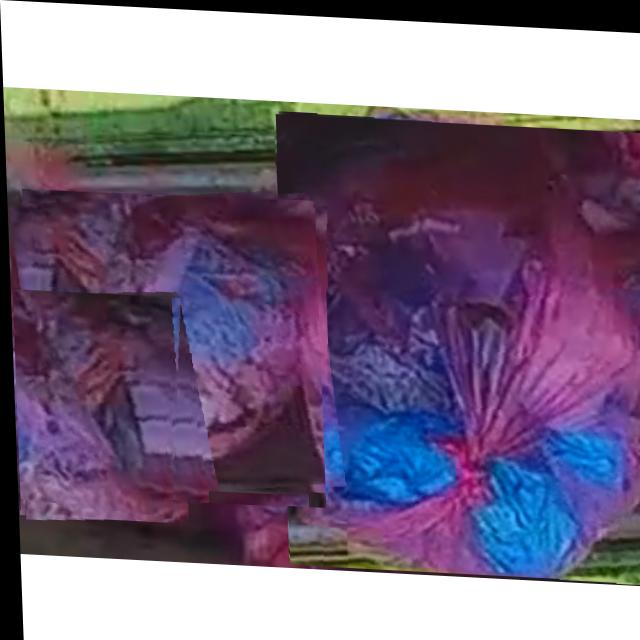other_trashbag: (279, 123, 640, 572), (48, 196, 314, 496), (10, 290, 171, 516)
